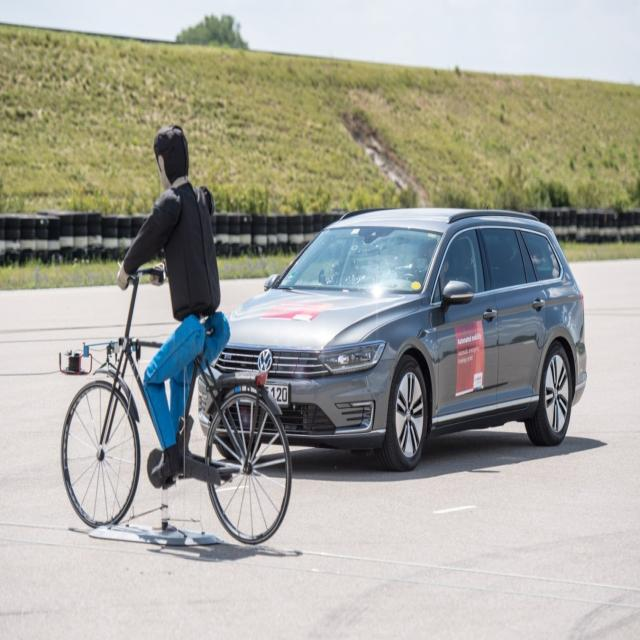bicycle: (61, 128, 291, 543)
car: (215, 208, 588, 471)
